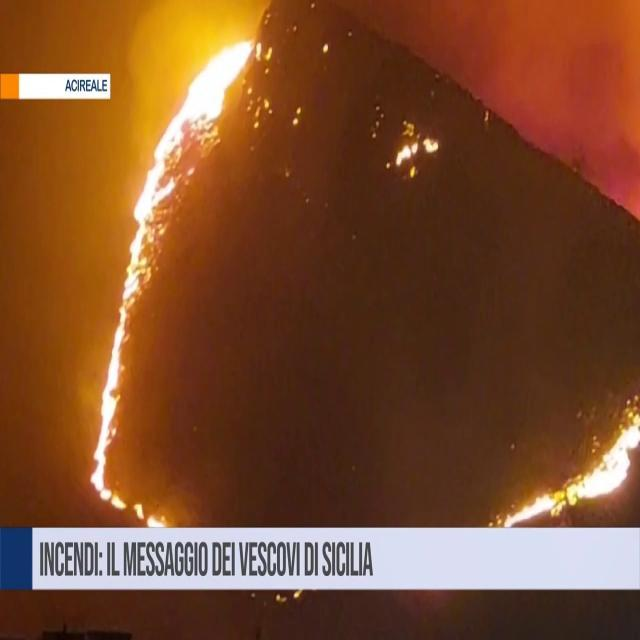Fire: (85, 1, 272, 506), (499, 388, 640, 522), (392, 120, 440, 183)
Smoke: (466, 0, 640, 209)
